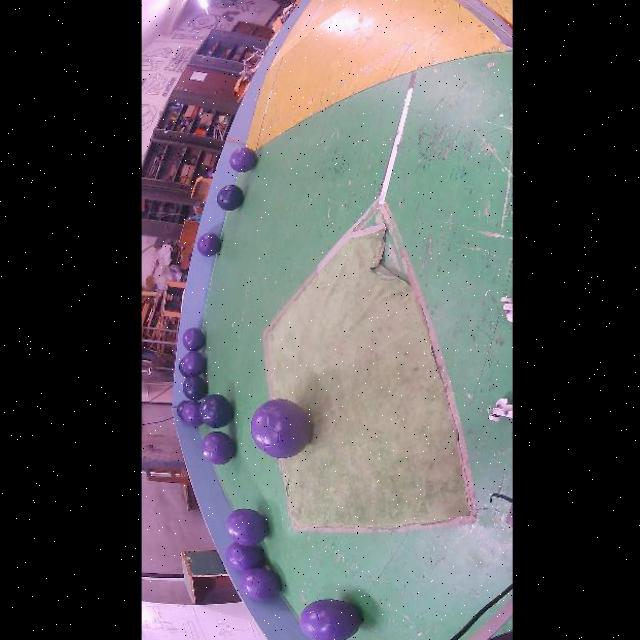B: (199, 394, 232, 428), (216, 185, 243, 211), (182, 376, 207, 401)
P: (251, 399, 311, 459), (298, 599, 361, 640), (226, 509, 267, 546), (240, 568, 282, 601), (200, 431, 235, 465), (225, 542, 263, 572), (229, 148, 256, 172), (181, 351, 205, 376), (196, 233, 220, 257), (182, 401, 203, 426), (182, 328, 204, 351), (176, 401, 188, 421)
